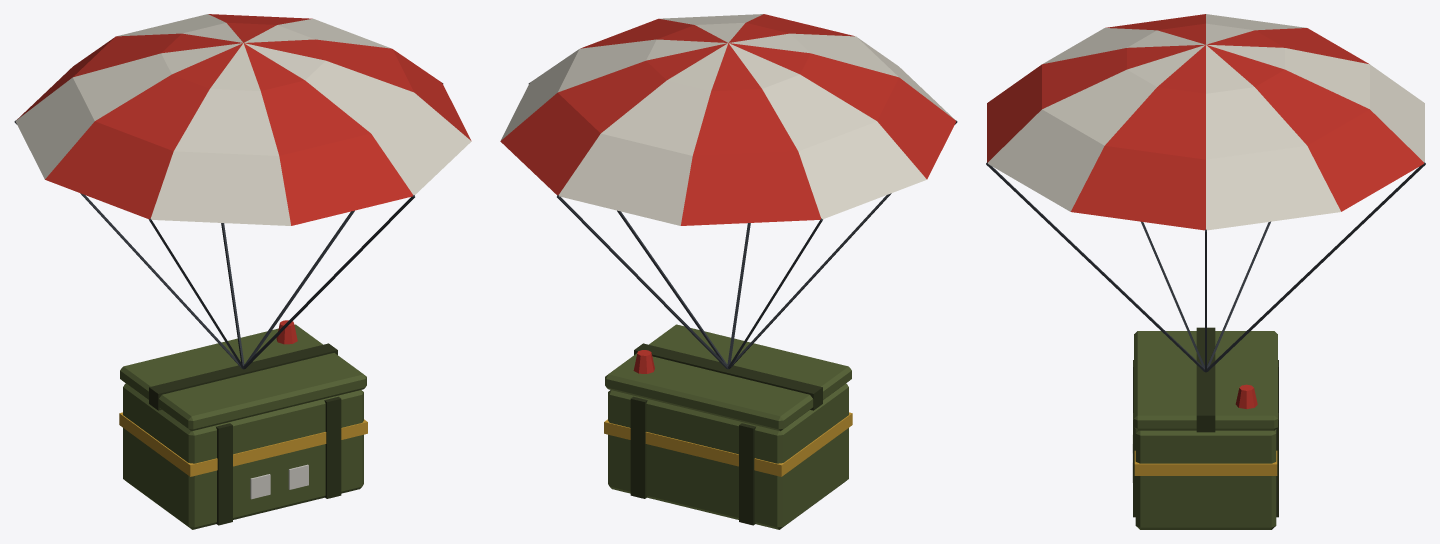
Rendered from supply_drop.glb.
3 renders of one model, left to right at view 1: azimuth 30°, elevation 25°; view 2: azimuth 150°, elevation 25°; view 3: azimuth 270°, elevation 25°, orthographic.
Parts seen in each view (by area): view 1: Parachute, SupplyDrop, Lid; view 2: Parachute, SupplyDrop, Lid; view 3: Parachute, SupplyDrop, Lid.
Part boxes in pixels (x1,y1,x2,y2): Parachute: [14, 14, 471, 369]; SupplyDrop: [119, 383, 367, 529]; Lid: [120, 320, 366, 431]; Parachute: [500, 14, 957, 369]; SupplyDrop: [604, 383, 852, 529]; Lid: [605, 324, 851, 431]; Parachute: [986, 14, 1425, 372]; SupplyDrop: [1132, 360, 1278, 529]; Lid: [1134, 327, 1277, 432].
Size of the model in its own units: 2.49 by 2.65 by 2.38.
